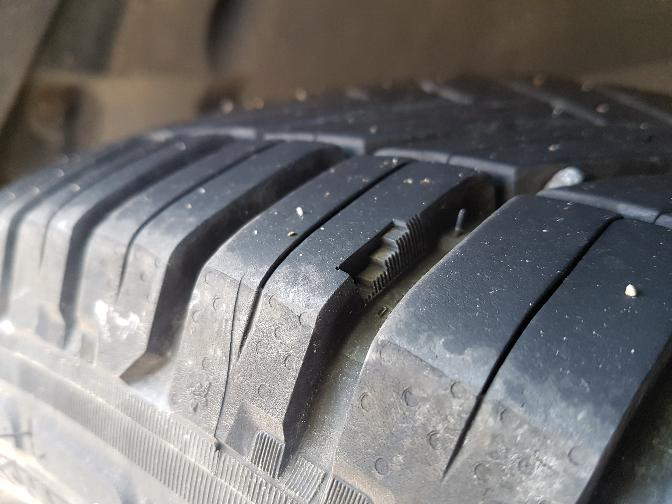temoin:90: (334, 209, 437, 310)
